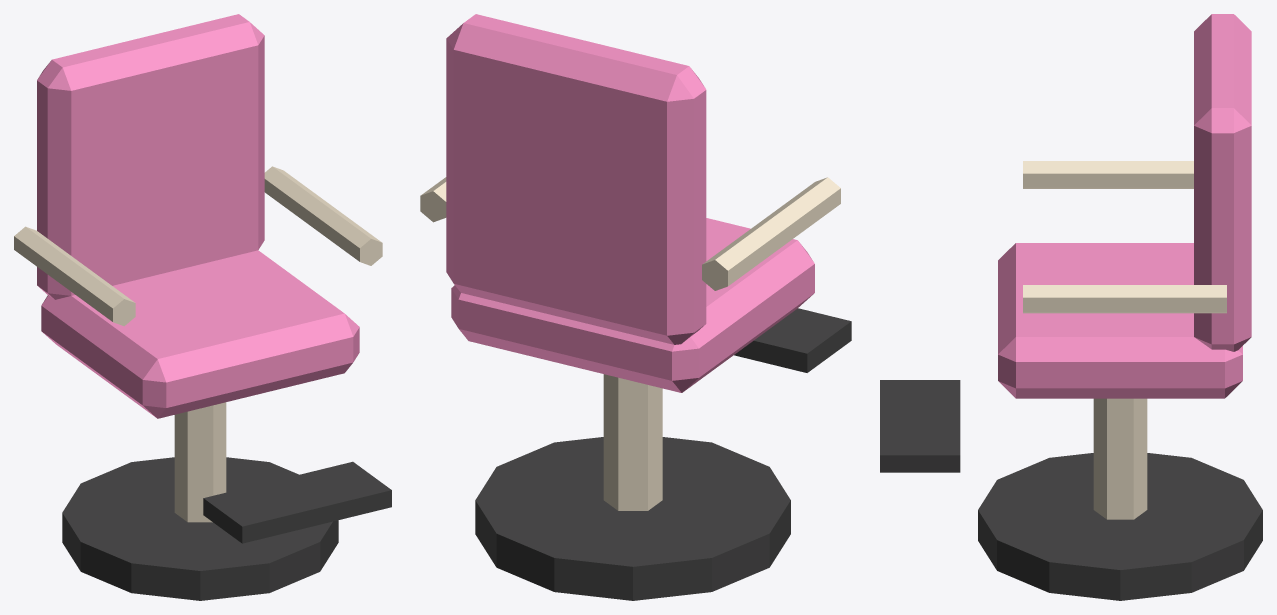
The picture shows the model from 3 angles, left to right: view 1: azimuth 30°, elevation 25°; view 2: azimuth 150°, elevation 25°; view 3: azimuth 270°, elevation 25°; orthographic projection. The views are drawn at different scales.
Visible parts, largest first — view 1: Back, Seat, Base, Footrest, Hydraulic post, Arm, Arm.001; view 2: Back, Base, Seat, Hydraulic post, Arm, Footrest, Arm.001; view 3: Base, Seat, Back, Footrest, Hydraulic post, Arm.001, Arm.
Part boxes in pixels (x1=…): Back: x1=37, y1=14, x2=264, y2=299; Seat: x1=41, y1=250, x2=359, y2=418; Base: x1=62, y1=457, x2=338, y2=600; Footrest: x1=203, y1=461, x2=391, y2=543; Hydraulic post: x1=174, y1=402, x2=226, y2=522; Arm: x1=14, y1=226, x2=135, y2=326; Arm.001: x1=264, y1=166, x2=382, y2=265; Back: x1=446, y1=14, x2=706, y2=344; Base: x1=475, y1=437, x2=790, y2=600; Seat: x1=451, y1=218, x2=814, y2=392; Hydraulic post: x1=603, y1=374, x2=662, y2=510; Arm: x1=702, y1=177, x2=840, y2=290; Footrest: x1=734, y1=308, x2=851, y2=372; Arm.001: x1=420, y1=177, x2=446, y2=222; Base: x1=978, y1=453, x2=1262, y2=600; Seat: x1=998, y1=243, x2=1242, y2=398; Back: x1=1194, y1=14, x2=1251, y2=351; Footrest: x1=880, y1=380, x2=960, y2=472; Hydraulic post: x1=1093, y1=398, x2=1147, y2=519; Arm.001: x1=1023, y1=285, x2=1226, y2=313; Arm: x1=1023, y1=161, x2=1193, y2=188.
Size of the model in its own units: 79.27 by 131 by 94.6.
